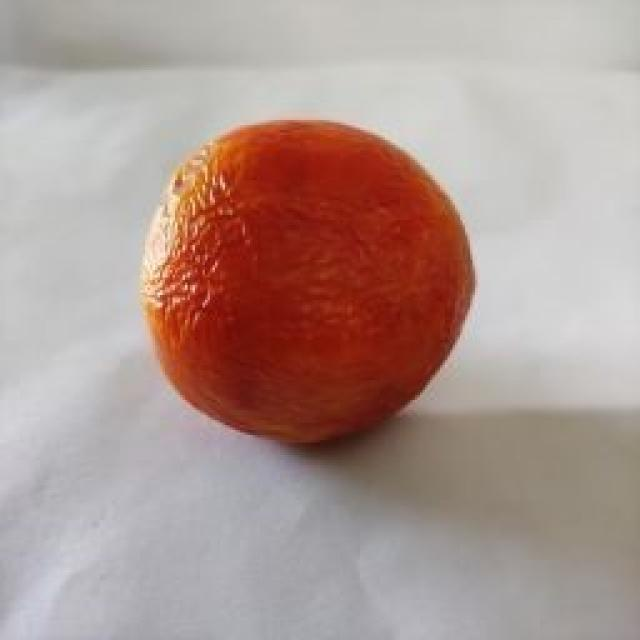overripe: (136, 118, 478, 446)
